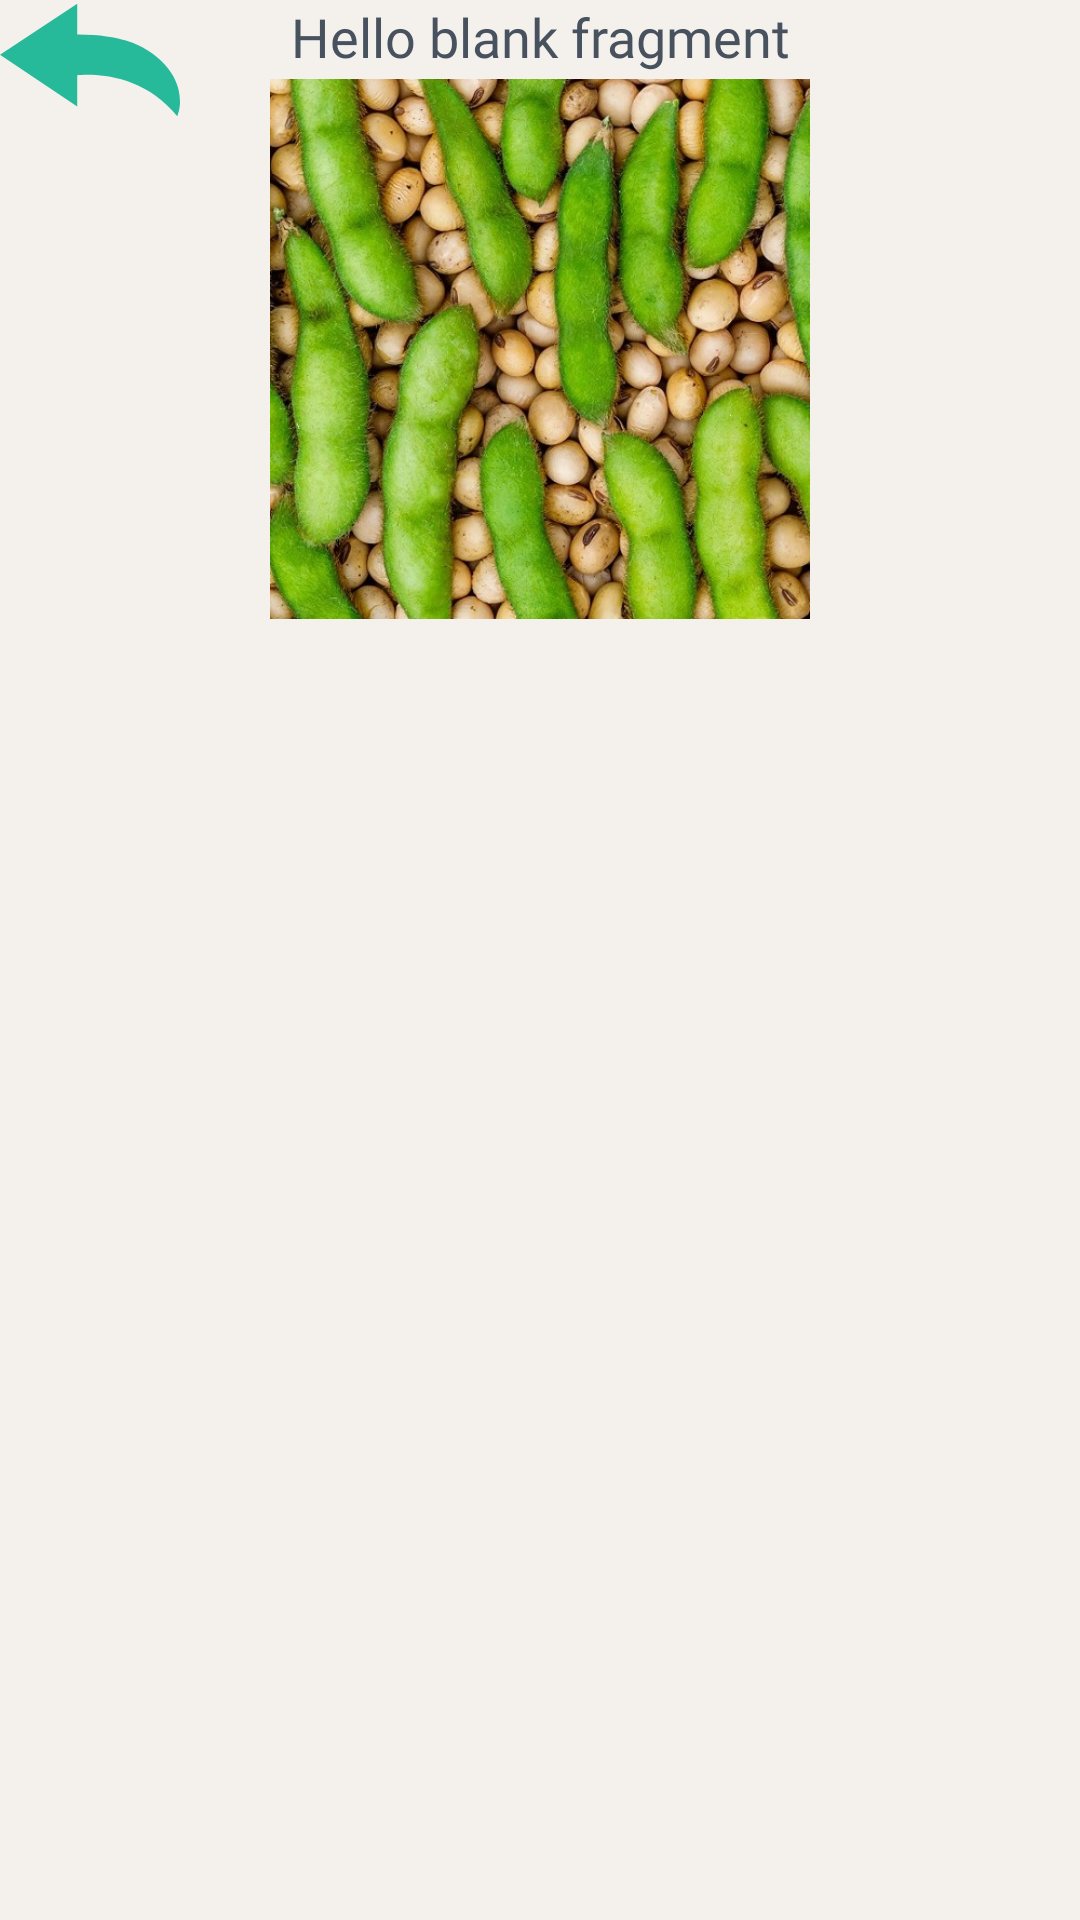

Icon click points for this 1080w x 1920h phone screenshot, format [x,y]:
back: [90,60]
